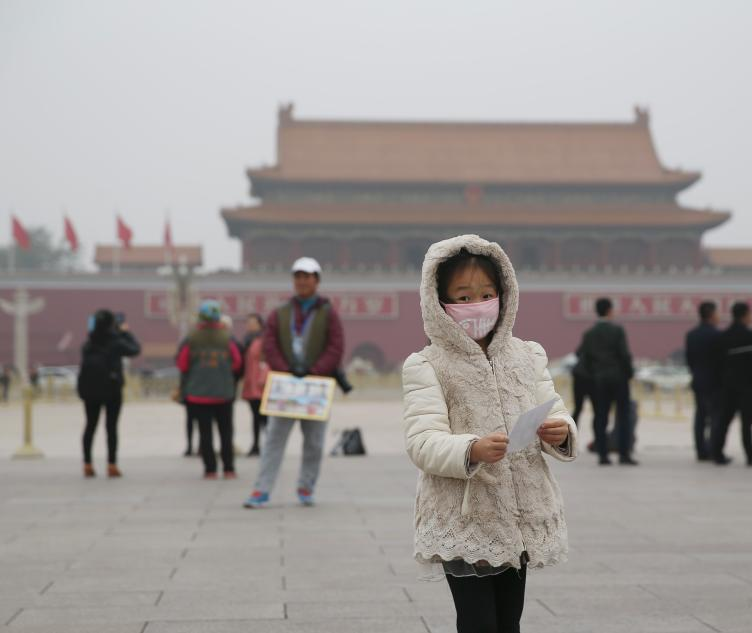person: (400, 229, 578, 631), (238, 255, 345, 508), (175, 297, 244, 482), (74, 308, 145, 482), (578, 295, 639, 466), (682, 299, 733, 464), (703, 298, 752, 467), (238, 310, 274, 456)
